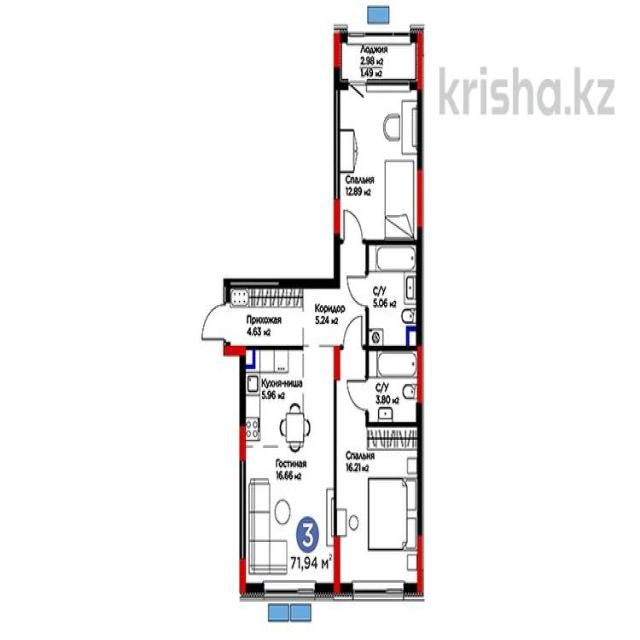balcony: (339, 32, 422, 82)
bathroom: (368, 246, 418, 347), (370, 353, 419, 425)
hallway: (226, 279, 364, 345)
living_room: (336, 432, 418, 590), (337, 89, 419, 244)
studio: (245, 351, 336, 592)
